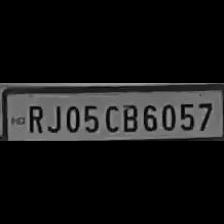0: (62, 102, 80, 132), (158, 102, 176, 131)
5: (79, 102, 99, 134), (176, 99, 194, 130)
6: (140, 102, 158, 132)
7: (195, 99, 213, 130)
B: (119, 102, 138, 132)
C: (101, 102, 119, 132)
J: (44, 102, 62, 134)
R: (23, 102, 44, 134)
